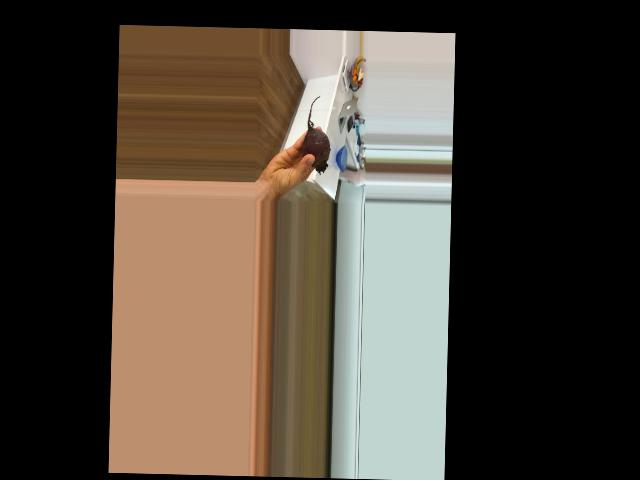beet: (302, 95, 331, 174)
